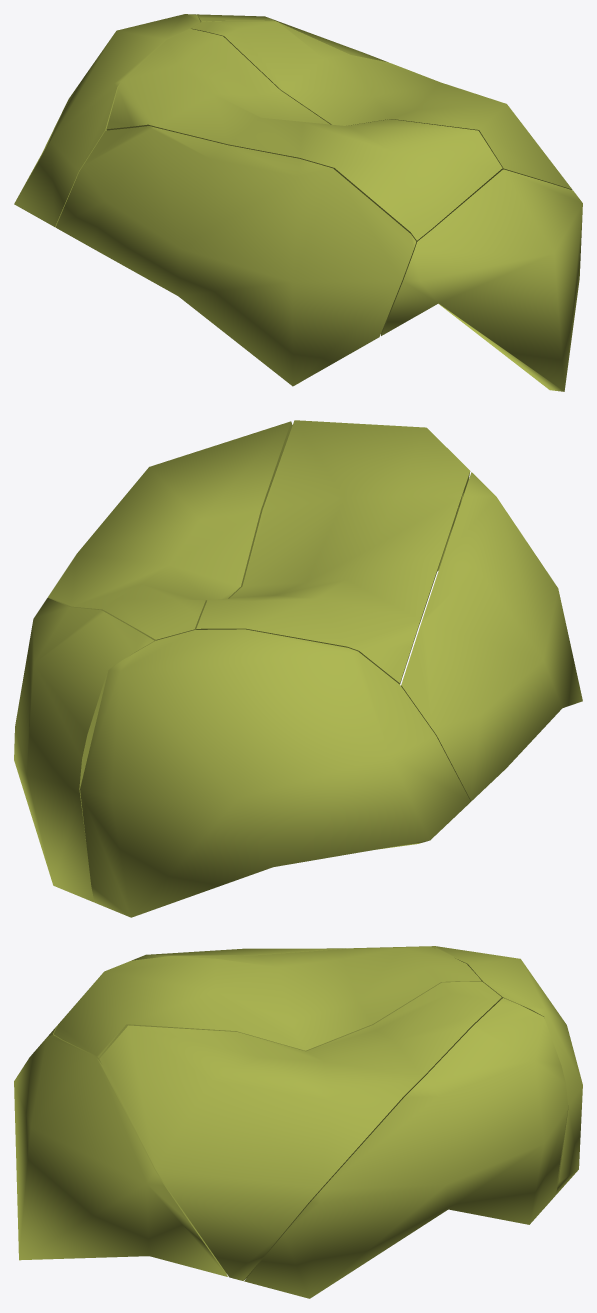
File: Plaque_01.fbx
The picture shows the model from 3 angles, top to bottom: view 1: azimuth 30°, elevation 25°; view 2: azimuth 150°, elevation 25°; view 3: azimuth 270°, elevation 25°; orthographic projection. The views are drawn at different scales.
Visible parts, largest first — view 1: tooth_d.037_cell.001, tooth_d.037_cell.003, tooth_d.037_cell.004, tooth_d.037_cell.002, tooth_d.037_cell, tooth_d.037_cell.005; view 2: tooth_d.037_cell, tooth_d.037_cell.003, tooth_d.037_cell.001, tooth_d.037_cell.002, tooth_d.037_cell.005; view 3: tooth_d.037_cell.002, tooth_d.037_cell.005, tooth_d.037_cell.003, tooth_d.037_cell.004, tooth_d.037_cell, tooth_d.037_cell.001.
Part boxes in pixels (x1,y1,x2,y2): tooth_d.037_cell.001: (55,126,416,386); tooth_d.037_cell.003: (106,29,502,244); tooth_d.037_cell.004: (381,169,582,391); tooth_d.037_cell.002: (191,21,572,189); tooth_d.037_cell: (14,14,200,227); tooth_d.037_cell.005: (196,14,388,62); tooth_d.037_cell: (80,629,470,917); tooth_d.037_cell.003: (196,420,470,684); tooth_d.037_cell.001: (401,472,582,801); tooth_d.037_cell.002: (48,421,292,640); tooth_d.037_cell.005: (14,597,154,902); tooth_d.037_cell.002: (99,981,501,1280); tooth_d.037_cell.005: (244,998,568,1298); tooth_d.037_cell.003: (53,946,481,1063); tooth_d.037_cell.004: (14,1035,227,1276); tooth_d.037_cell: (431,946,582,1195); tooth_d.037_cell.001: (47,948,347,1036).
Bounding box in the file's own units: 83.72 × 49.24 × 106.
